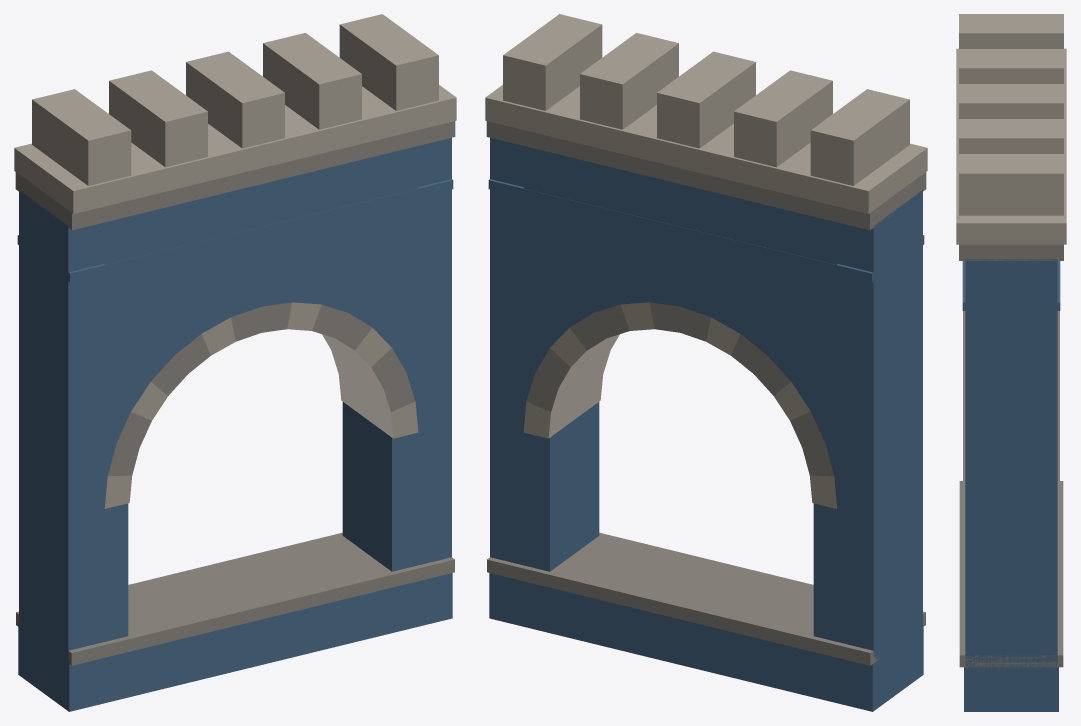
File: high_crown_arch_wall.obj
3 renders of one model, left to right at view 1: azimuth 30°, elevation 25°; view 2: azimuth 150°, elevation 25°; view 3: azimuth 270°, elevation 25°, orthographic. The views are drawn at different scales.
Visible parts, largest first — view 1: high_crown_arch_wall; view 2: high_crown_arch_wall; view 3: high_crown_arch_wall.
Boxes of the visible parts, <box> form: high_crown_arch_wall: <box>14,14,456,711</box>; high_crown_arch_wall: <box>485,14,927,711</box>; high_crown_arch_wall: <box>956,14,1066,711</box>.
Bounding box in the file's own units: 6.28 × 8.91 × 1.68.
